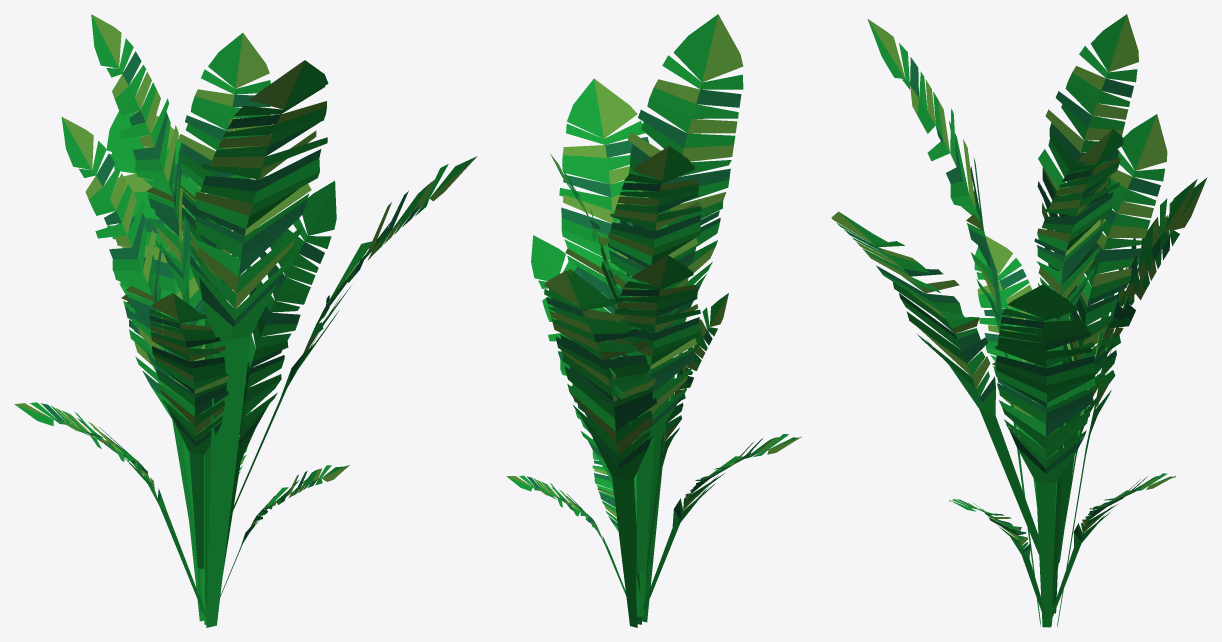
The model's file is shrub__6.fbx.
3 views of the same model, side by side, from view 1: azimuth 30°, elevation 25°; view 2: azimuth 150°, elevation 25°; view 3: azimuth 270°, elevation 25° (orthographic). The views are drawn at different scales.
Visible parts, largest first — view 1: banan_2.004; view 2: banan_2.004; view 3: banan_2.004.
Boxes of the visible parts, box(x1,y1,x2,y2) form: banan_2.004: box(14, 14, 477, 627); banan_2.004: box(506, 14, 801, 627); banan_2.004: box(831, 14, 1207, 627).
Bounding box in the file's own units: 3022 × 5093 × 2856.
